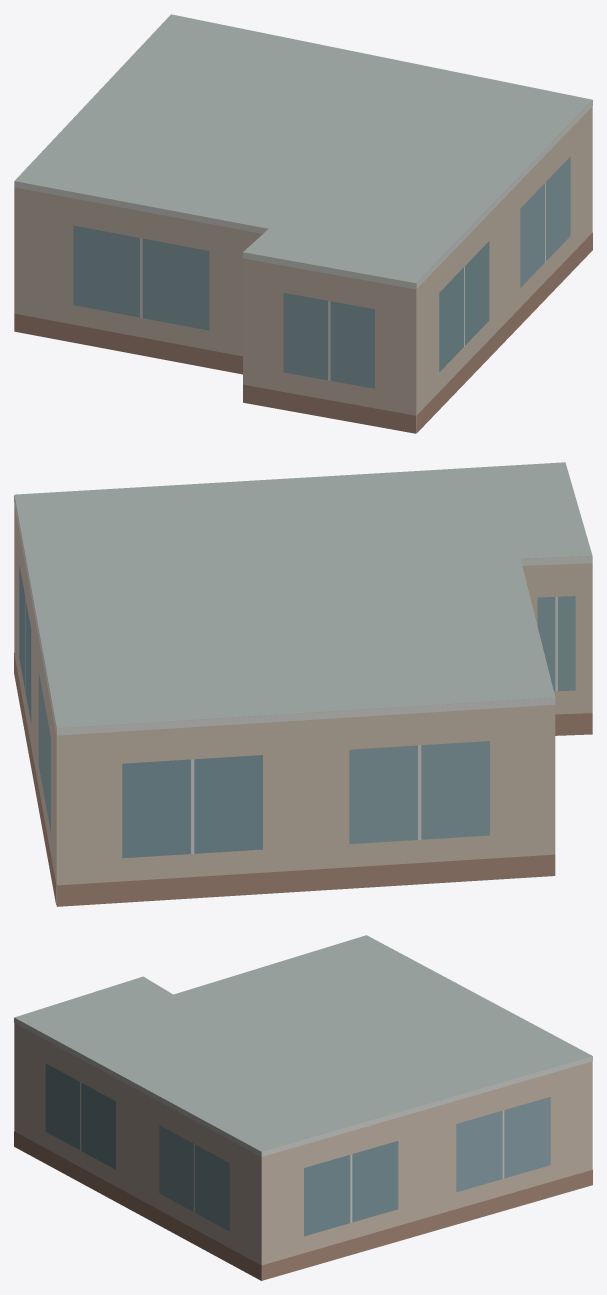
Rendered from survey-upis-32758137.glb.
3 renders of one model, top to bottom at view 1: azimuth 30°, elevation 25°; view 2: azimuth 150°, elevation 25°; view 3: azimuth 270°, elevation 25°, orthographic. The views are drawn at different scales.
Visible parts, largest first — view 1: survey-upis-32758137.tmp; view 2: survey-upis-32758137.tmp; view 3: survey-upis-32758137.tmp.
Part boxes in pixels (x1,y1,x2,y2): survey-upis-32758137.tmp: (14, 14, 592, 433); survey-upis-32758137.tmp: (14, 462, 592, 906); survey-upis-32758137.tmp: (14, 935, 592, 1280).
Size of the model in its own units: 10.99 by 3.05 by 12.4.
